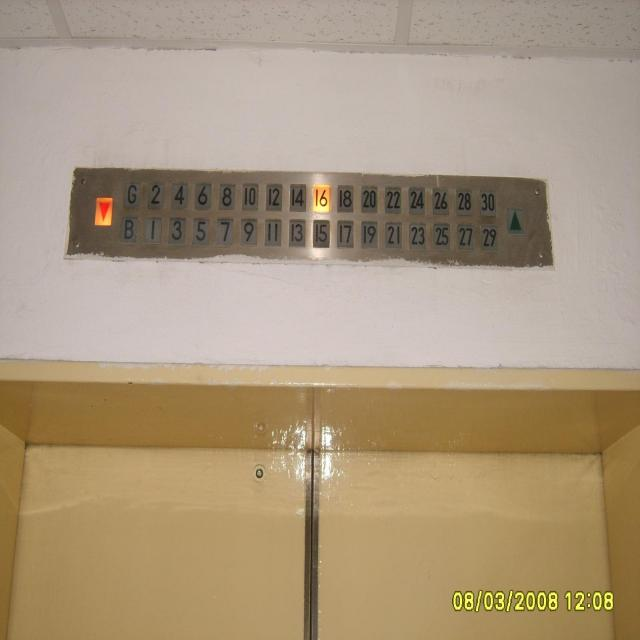1: (144, 215, 162, 244)
10: (241, 182, 259, 212)
11: (264, 218, 282, 247)
12: (265, 182, 283, 212)
13: (288, 218, 306, 248)
14: (288, 182, 307, 212)
15: (312, 218, 331, 248)
16: (312, 183, 331, 213)
17: (336, 218, 354, 249)
18: (336, 183, 354, 213)
19: (359, 219, 378, 250)
2: (146, 180, 164, 210)
20: (359, 183, 378, 214)
21: (384, 220, 403, 250)
22: (384, 184, 402, 214)
23: (408, 221, 426, 250)
24: (408, 186, 425, 215)
25: (433, 222, 451, 252)
26: (432, 187, 448, 215)
27: (456, 223, 475, 251)
28: (456, 188, 472, 216)
29: (479, 224, 498, 252)
3: (168, 216, 186, 244)
30: (478, 189, 496, 216)
4: (170, 180, 188, 209)
5: (192, 216, 209, 245)
6: (193, 180, 212, 210)
7: (215, 217, 235, 245)
8: (218, 182, 236, 211)
9: (239, 217, 258, 246)
B: (120, 215, 139, 243)
G: (124, 181, 142, 206)
down: (95, 196, 114, 225)
up: (506, 207, 524, 234)
